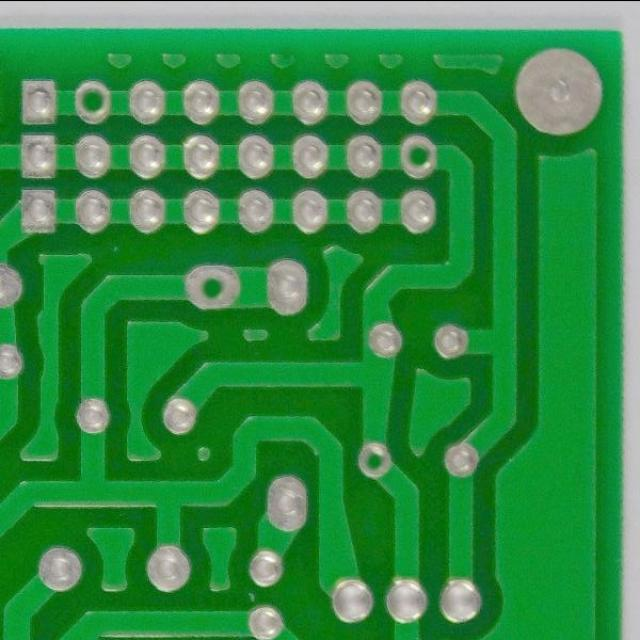Missing_Hole: (177, 259, 249, 317), (392, 130, 443, 183), (68, 76, 118, 128), (351, 440, 400, 483)
